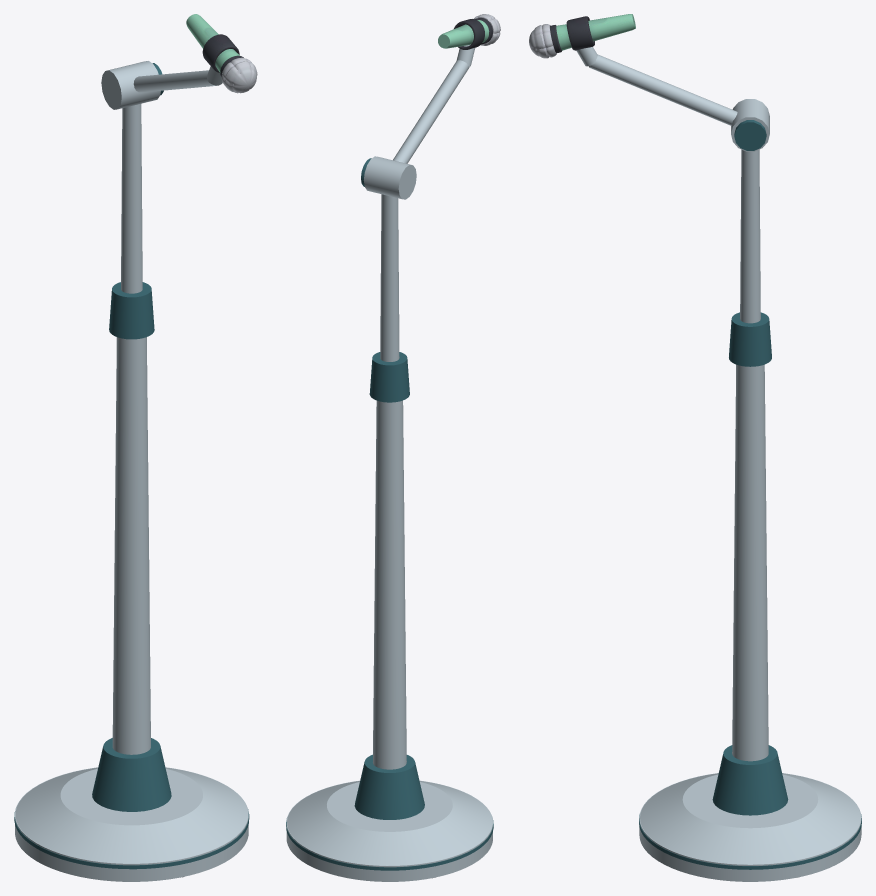
3 views of the same model, side by side, from view 1: azimuth 30°, elevation 25°; view 2: azimuth 150°, elevation 25°; view 3: azimuth 270°, elevation 25° (orthographic). The views are drawn at different scales.
Parts seen in each view (by area): view 1: weighted-disc, telescoping-mast, mast-socket, height-lock, short-arm-hinge, singing-boom, disc-inlay, singing-mic-pickup, singing-mic-handle, singing-mic-clip; view 2: weighted-disc, telescoping-mast, mast-socket, singing-boom, short-arm-hinge, height-lock, disc-inlay, singing-mic-handle, singing-mic-clip; view 3: weighted-disc, telescoping-mast, mast-socket, singing-boom, height-lock, singing-mic-handle, disc-inlay, short-arm-hinge, arm-thumbwheel, singing-mic-clip, singing-mic-pickup.
Boxes of the visible parts, x1,y1,x2,y2 form: weighted-disc: (15,767,248,881); telescoping-mast: (112,104,150,754); mast-socket: (92,738,171,811); height-lock: (109,282,154,339); short-arm-hinge: (101,61,160,109); singing-boom: (133,66,222,92); disc-inlay: (14,809,249,869); singing-mic-pickup: (221,57,257,93); singing-mic-handle: (186,14,239,72); singing-mic-clip: (202,34,239,72); weighted-disc: (286,780,492,881); telescoping-mast: (373,194,406,769); mast-socket: (354,754,424,819); singing-boom: (393,44,475,163); short-arm-hinge: (363,156,416,199); height-lock: (369,352,409,402); disc-inlay: (286,818,493,870); singing-mic-handle: (438,20,489,48); singing-mic-clip: (454,19,484,49); weighted-disc: (639,773,861,881); telescoping-mast: (732,149,768,761); mast-socket: (712,745,788,815); singing-boom: (576,47,737,125); height-lock: (729,312,771,366); singing-mic-handle: (556,14,635,50); disc-inlay: (639,814,861,869); short-arm-hinge: (731,99,769,151); arm-thumbwheel: (734,120,766,150); singing-mic-clip: (566,16,594,50); singing-mic-pickup: (529,24,556,58).
Bounding box in the file's own units: 0.4016 × 1.64 × 0.5996.
Materials: 4 (1 with a texture image).
